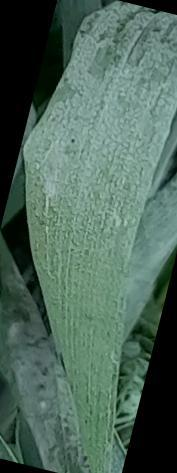Wheat: (29, 9, 173, 224), (28, 178, 122, 445)
